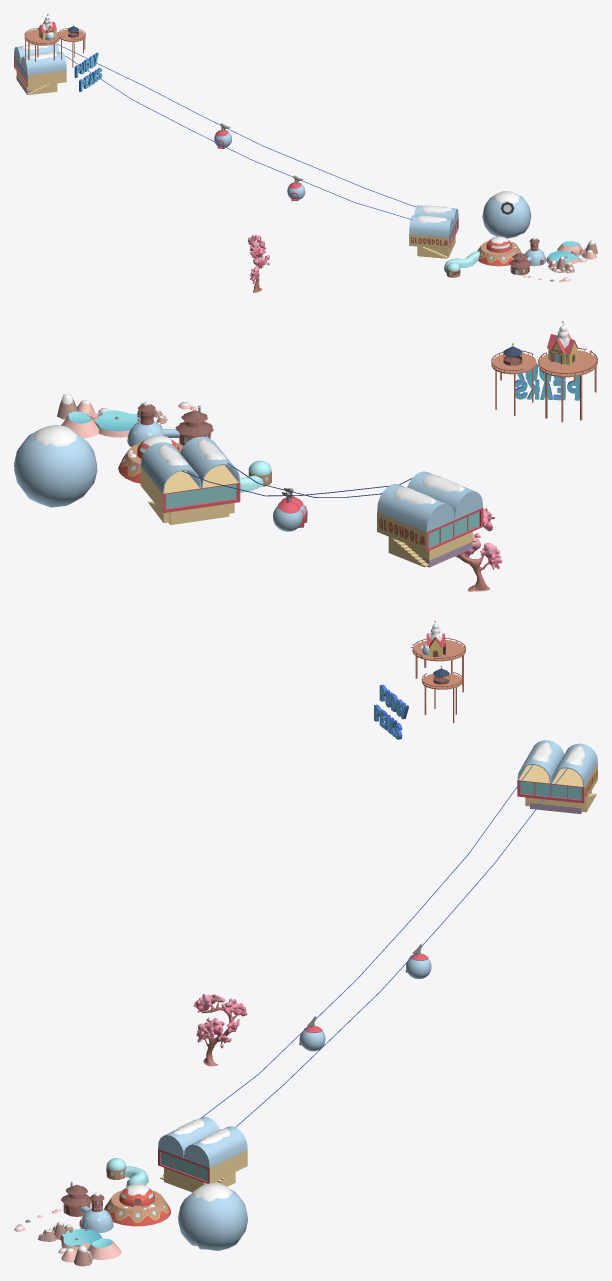
File: Neighborhood_PudgyPeaks_03.fbx
The picture shows the model from 3 angles, top to bottom: view 1: azimuth 30°, elevation 25°; view 2: azimuth 150°, elevation 25°; view 3: azimuth 270°, elevation 25°; orthographic projection. The views are drawn at different scales.
Parts seen in each view (by area): view 1: Neighborhood_PudgyPeaks_03; view 2: Neighborhood_PudgyPeaks_03; view 3: Neighborhood_PudgyPeaks_03.
Boxes of the visible parts, x1=… form: Neighborhood_PudgyPeaks_03: x1=14, y1=14, x2=597, y2=292; Neighborhood_PudgyPeaks_03: x1=14, y1=321, x2=597, y2=591; Neighborhood_PudgyPeaks_03: x1=14, y1=621, x2=597, y2=1266.
Size of the model in its own units: 9324 by 5142 by 7507.
